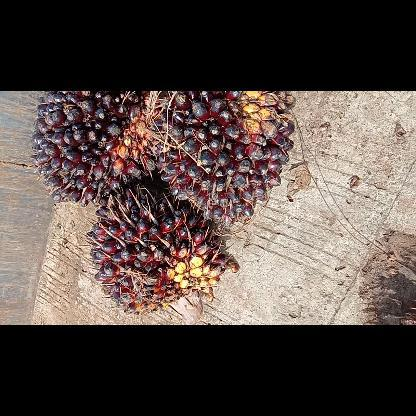TBS mentah: (85, 180, 251, 314), (153, 90, 299, 228), (28, 90, 158, 209)
